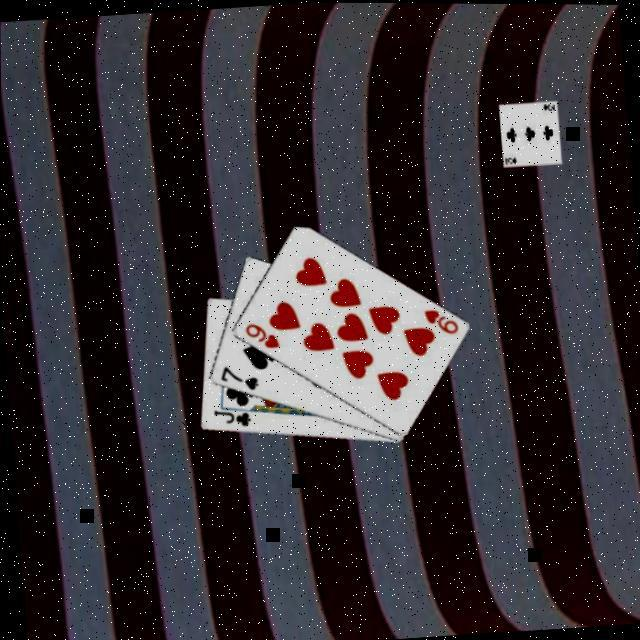7S: (216, 360, 260, 393)
9H: (242, 316, 282, 352), (420, 303, 460, 336)
JC: (209, 404, 253, 429)
